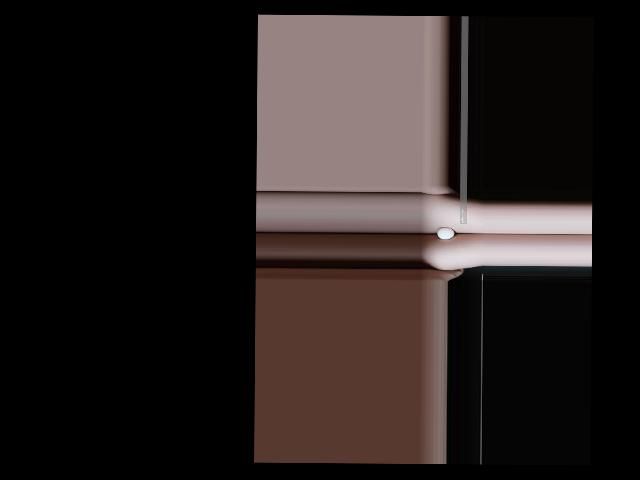egg: (437, 226, 454, 239)
